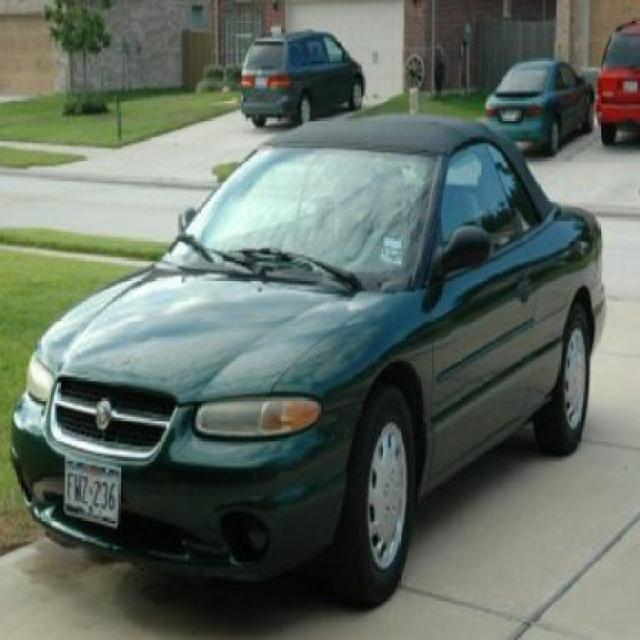License-Plates: (64, 454, 119, 528)
